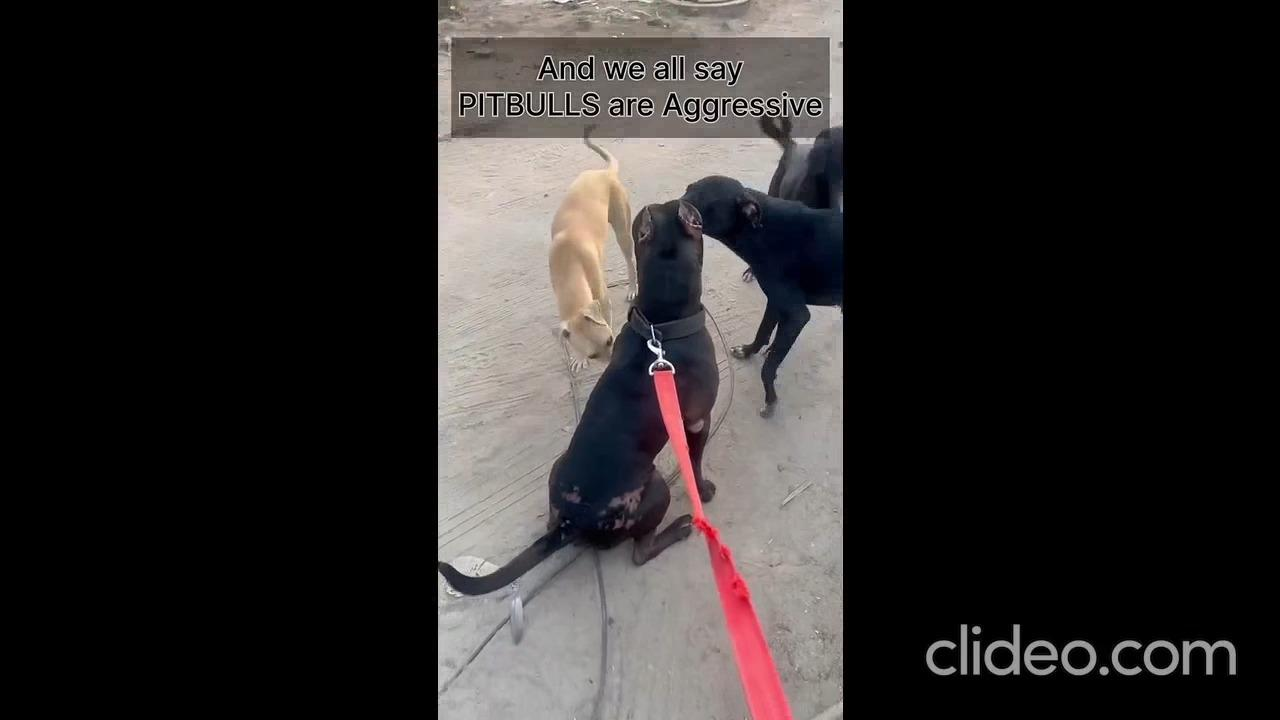dog: (684, 160, 864, 397), (529, 122, 629, 367)
